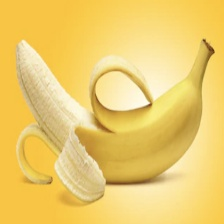banana: (42, 9, 191, 189)
